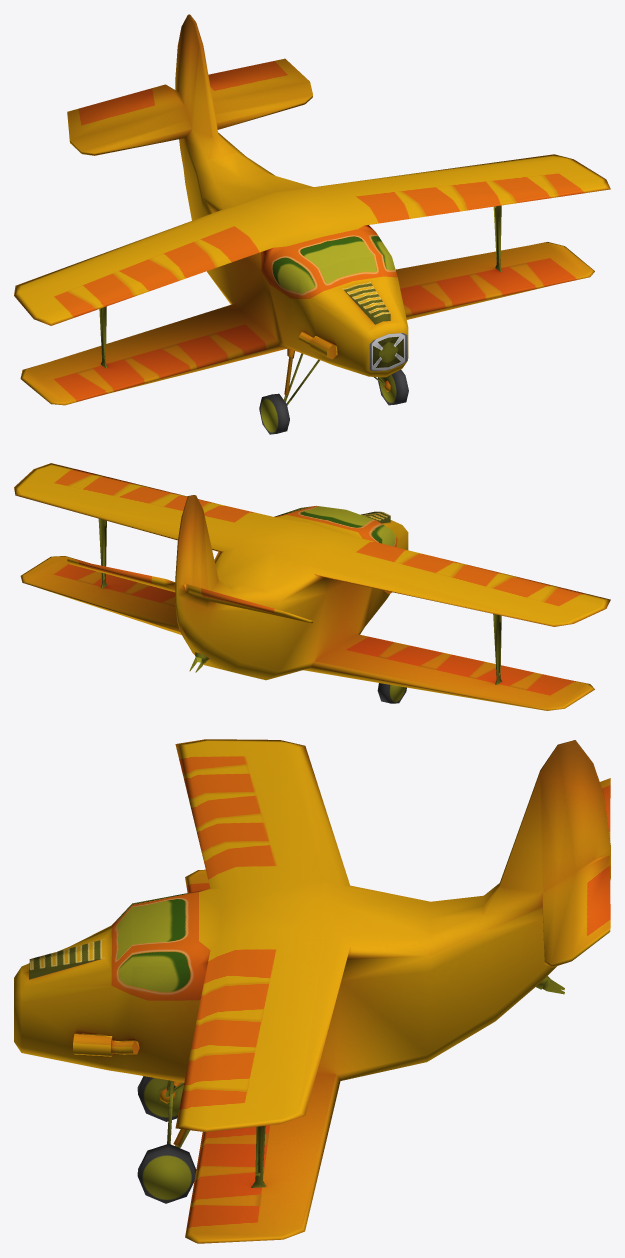
3 renders of one model, top to bottom at view 1: azimuth 30°, elevation 25°; view 2: azimuth 150°, elevation 25°; view 3: azimuth 270°, elevation 25°, orthographic. The views are drawn at different scales.
Parts seen in each view (by area): view 1: Catoon_AN2; view 2: Catoon_AN2; view 3: Catoon_AN2.
Part boxes in pixels (x1,y1,x2,y2): Catoon_AN2: (14, 14, 610, 434); Catoon_AN2: (14, 463, 610, 710); Catoon_AN2: (14, 739, 610, 1243).
Size of the model in its own units: 52.88 by 26.27 by 33.94.
Materials: 1 (1 with a texture image).
